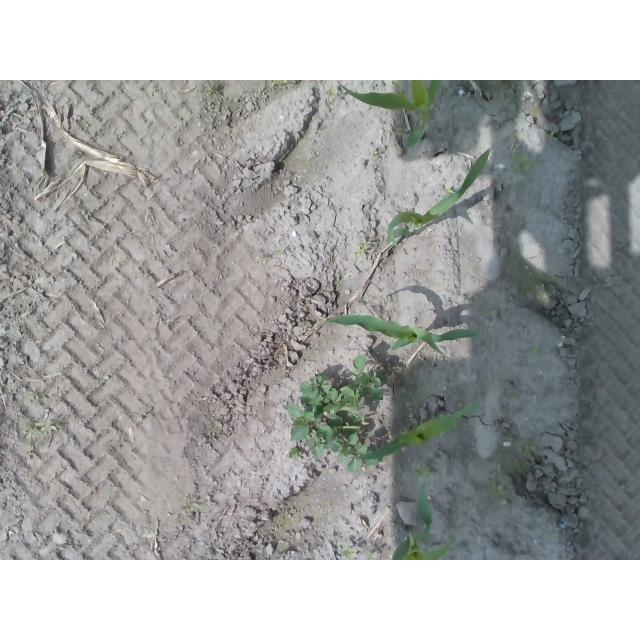Maize: (386, 148, 491, 245), (337, 80, 443, 152), (361, 400, 479, 461), (318, 312, 479, 356), (391, 478, 458, 560)
Weeds: (286, 354, 389, 471), (513, 441, 537, 469), (27, 420, 56, 440), (512, 153, 536, 175), (493, 482, 515, 499), (414, 464, 430, 479), (355, 240, 369, 257), (341, 545, 355, 559), (96, 373, 111, 384), (482, 307, 498, 317), (506, 389, 518, 401), (269, 81, 287, 88), (547, 131, 557, 143), (527, 346, 540, 355), (207, 88, 219, 96), (372, 151, 380, 161), (325, 89, 337, 95), (28, 394, 40, 400)
